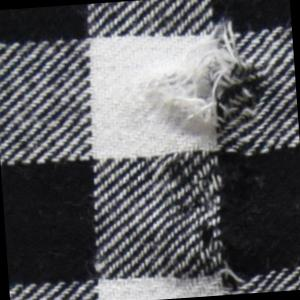Damage: (144, 9, 285, 300)
